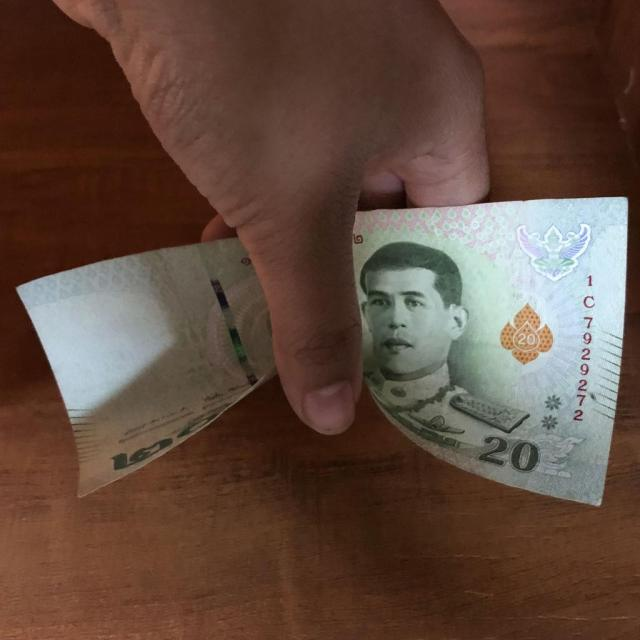THAI20: (352, 199, 627, 506), (17, 239, 275, 496)
